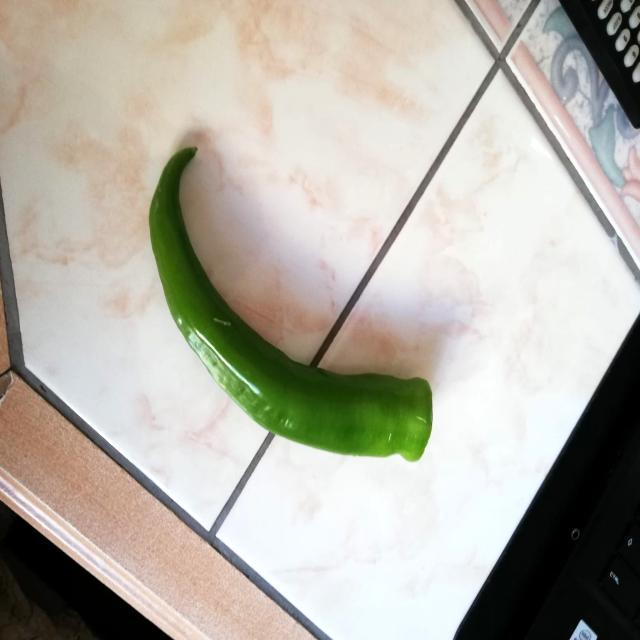green pepper: (146, 143, 434, 466)
